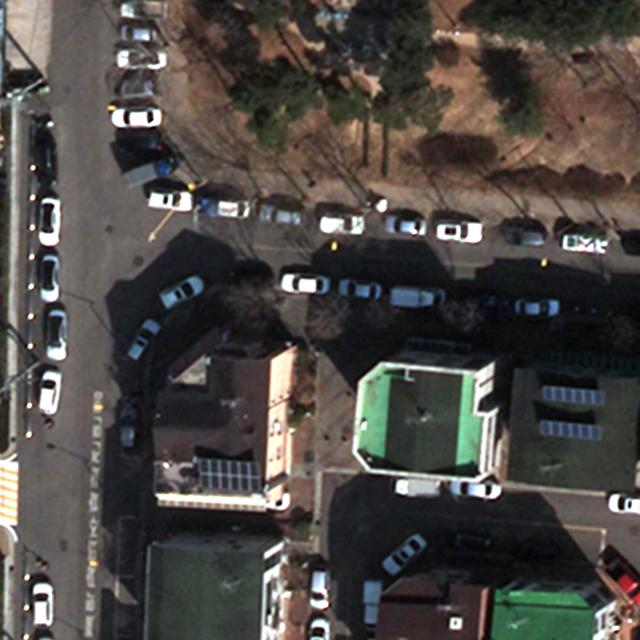panel: (195, 456, 266, 498), (538, 415, 605, 445), (541, 383, 605, 408)
